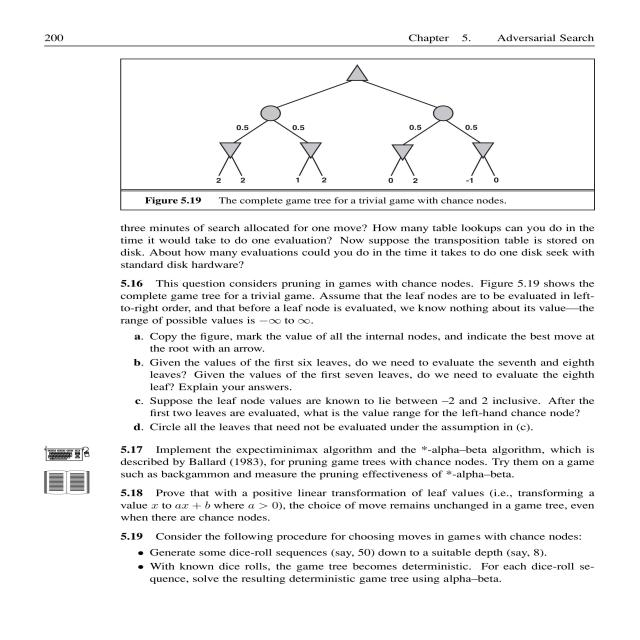diagram: (87, 63, 581, 216)
